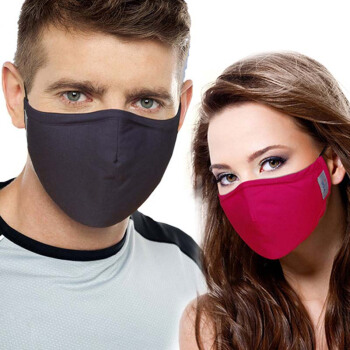mask: (24, 109, 180, 226), (219, 161, 329, 257)
